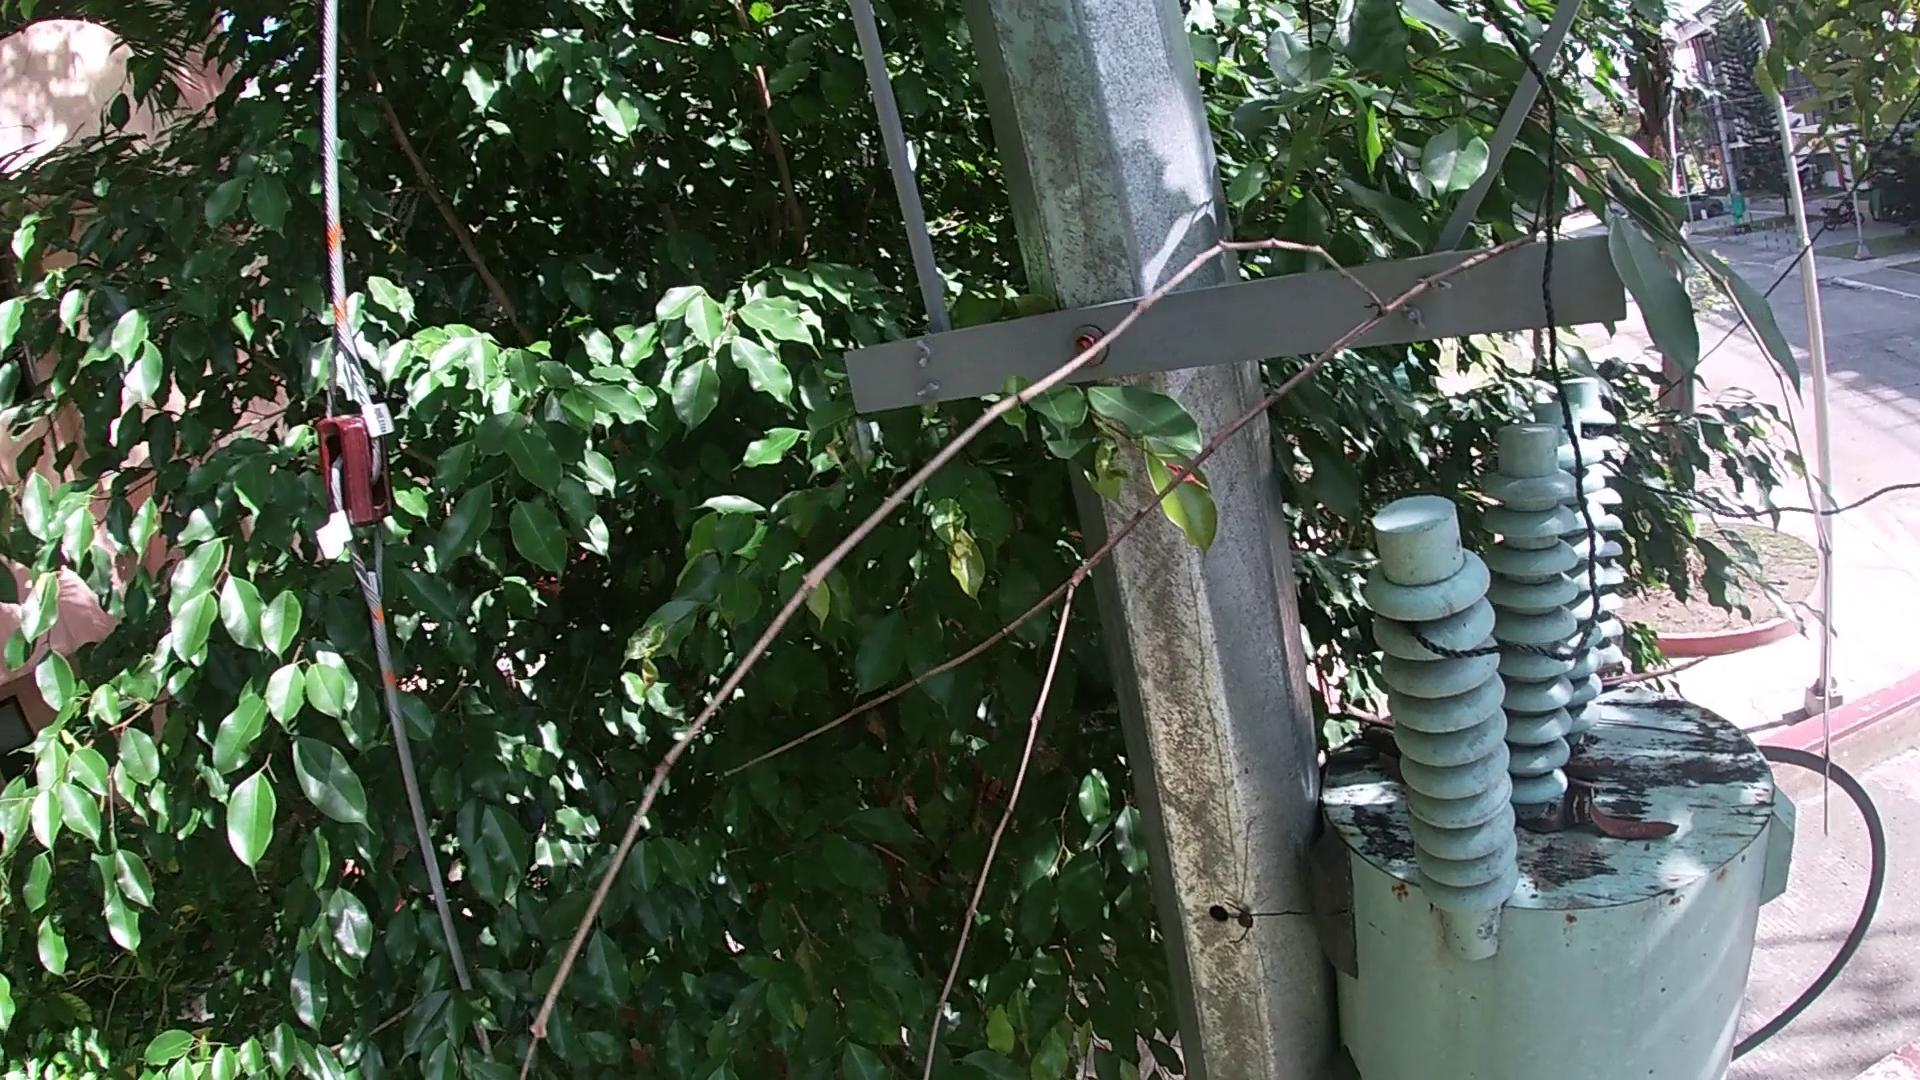leaf: (1582, 791, 1680, 845), (1373, 749, 1400, 785)
tree branch: (509, 178, 1851, 1077), (1600, 649, 1720, 694), (1338, 699, 1395, 738)
